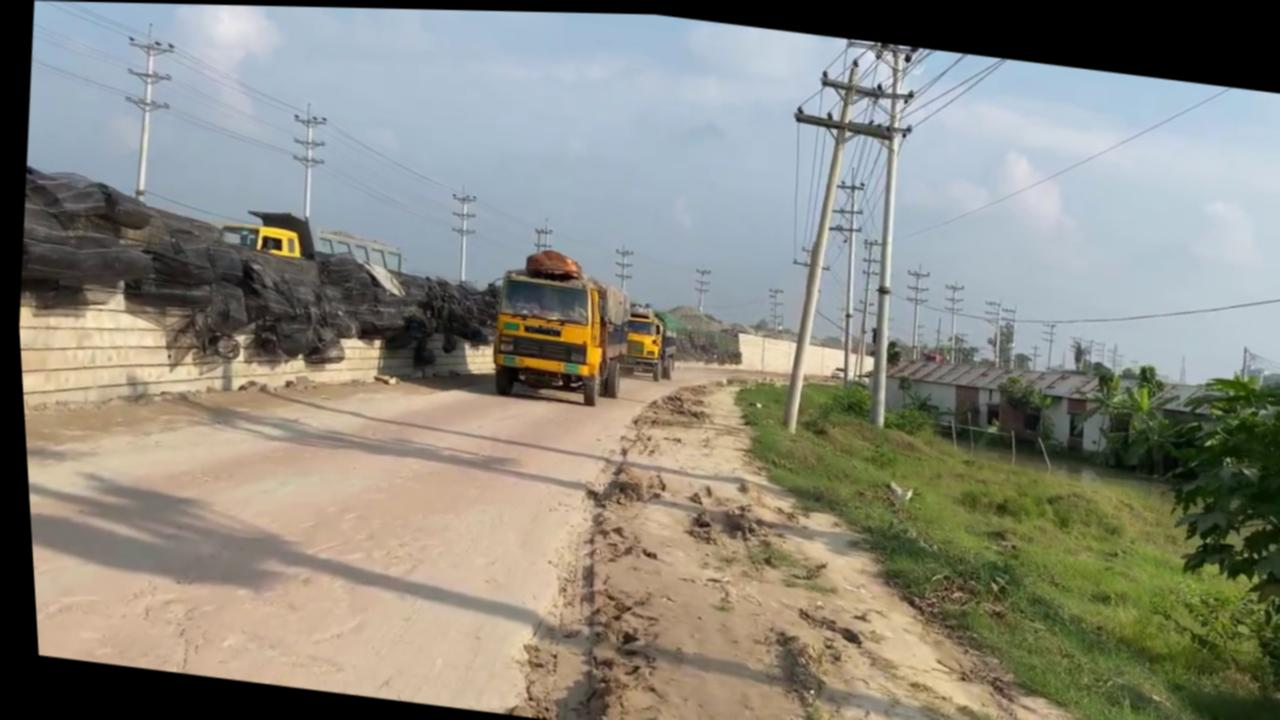Garbage: (7, 161, 507, 397)
Pole: (758, 44, 875, 435), (842, 40, 929, 425)
Rickshaw: (544, 350, 1182, 720)
Tree: (204, 201, 498, 363), (478, 239, 637, 408), (213, 202, 404, 273), (213, 202, 316, 260), (614, 298, 679, 380)
Upstairs: (12, 266, 500, 469)
